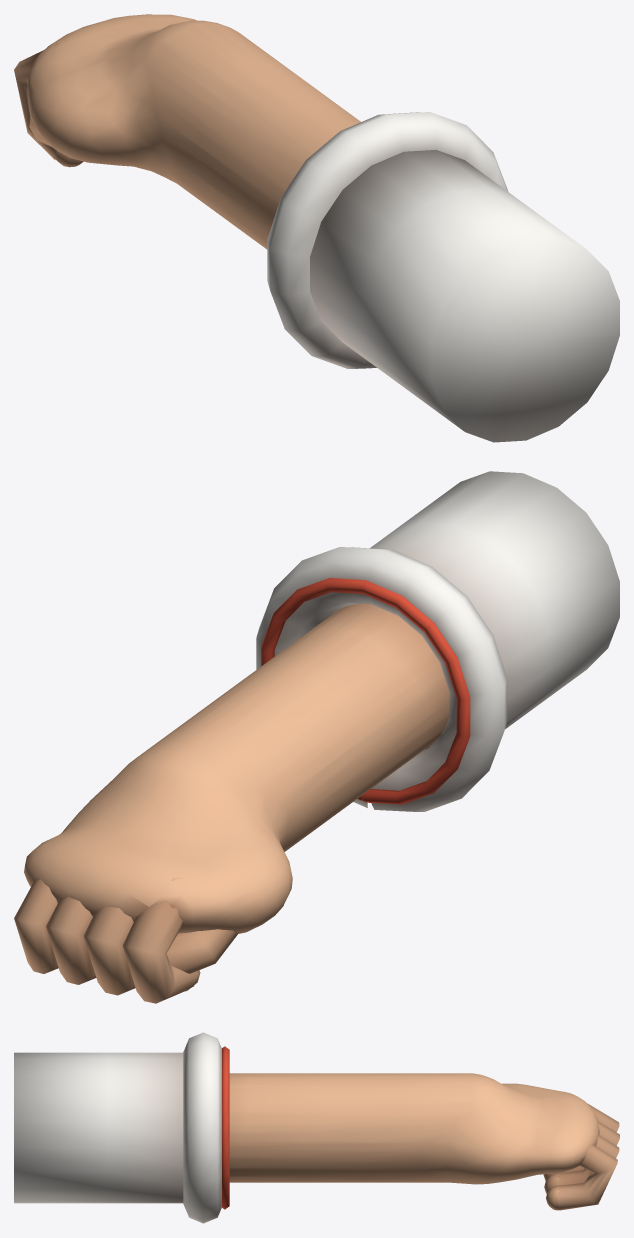
The model's file is fp-hand-right-grip.gltf.
3 views of the same model, one above another, from view 1: azimuth 30°, elevation 25°; view 2: azimuth 150°, elevation 25°; view 3: azimuth 270°, elevation 25° (orthographic). The views are drawn at different scales.
Parts seen in each view (by area): view 1: model; view 2: model; view 3: model.
Part boxes in pixels (x1,y1,x2,y2): model: (14, 14, 619, 442); model: (14, 471, 619, 1003); model: (14, 1032, 619, 1223).
Size of the model in its own units: 0.1533 by 0.1518 by 0.4799.
